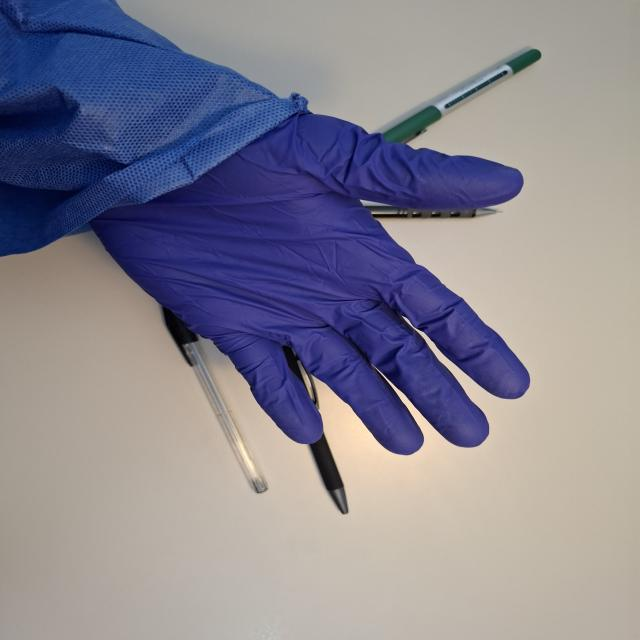glove_on: (83, 99, 533, 454)
